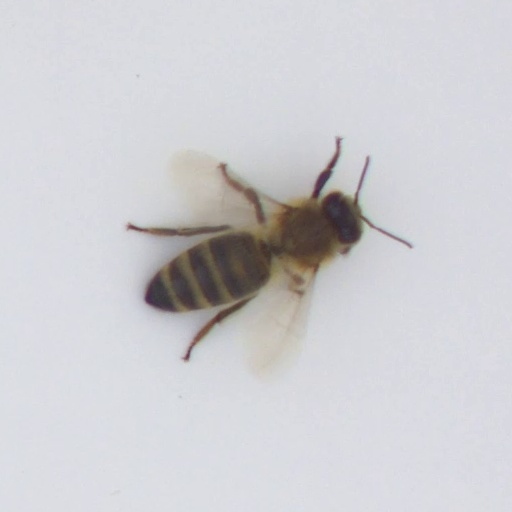Bee: (127, 183, 384, 328)
Thorax: (269, 199, 340, 266)
